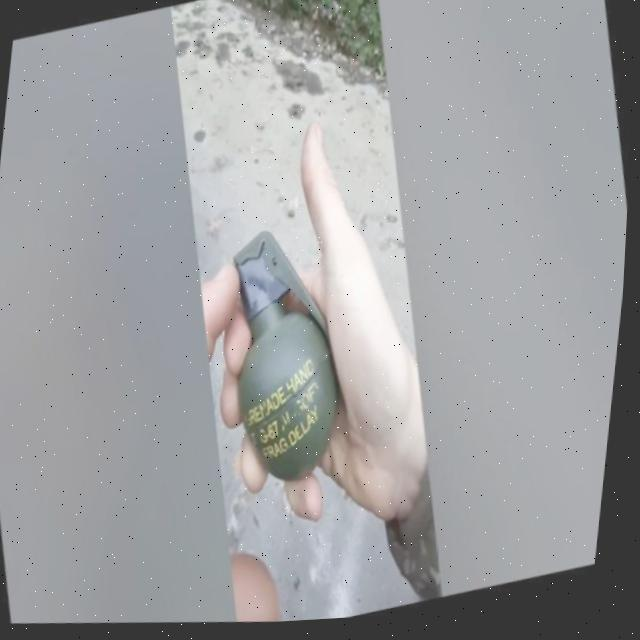grenade: (202, 218, 380, 496)
